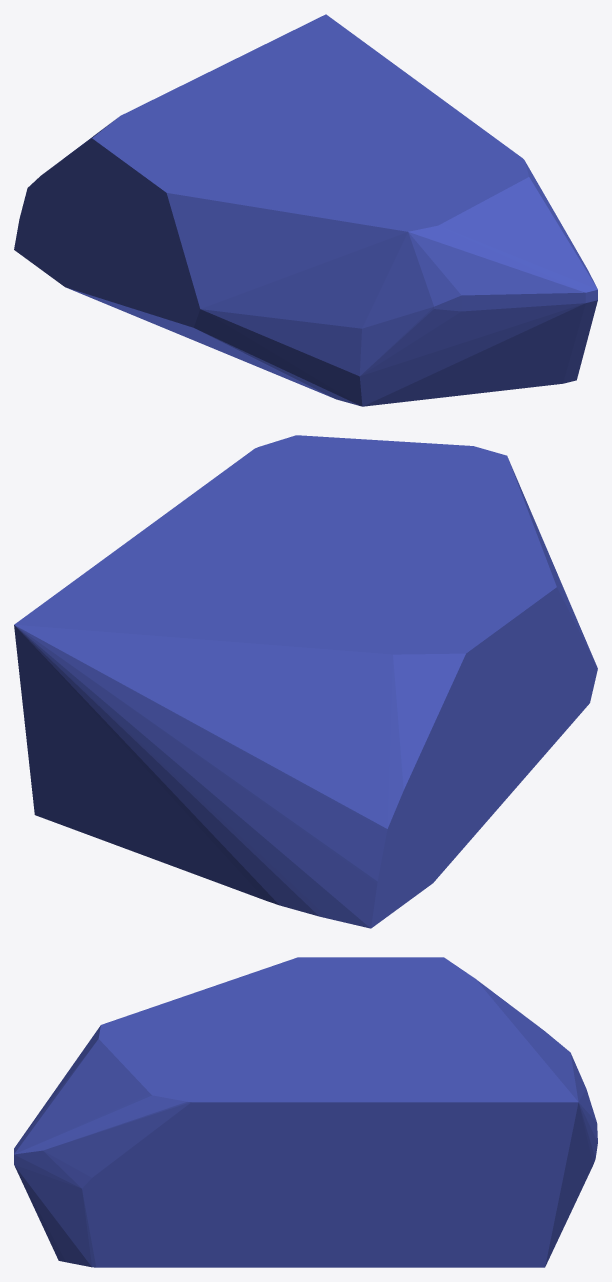
3 views of the same model, one above another, from view 1: azimuth 30°, elevation 25°; view 2: azimuth 150°, elevation 25°; view 3: azimuth 270°, elevation 25° (orthographic). The views are drawn at different scales.
Bounding box in the file's own units: 0.0222 × 0.0118 × 0.0378.
